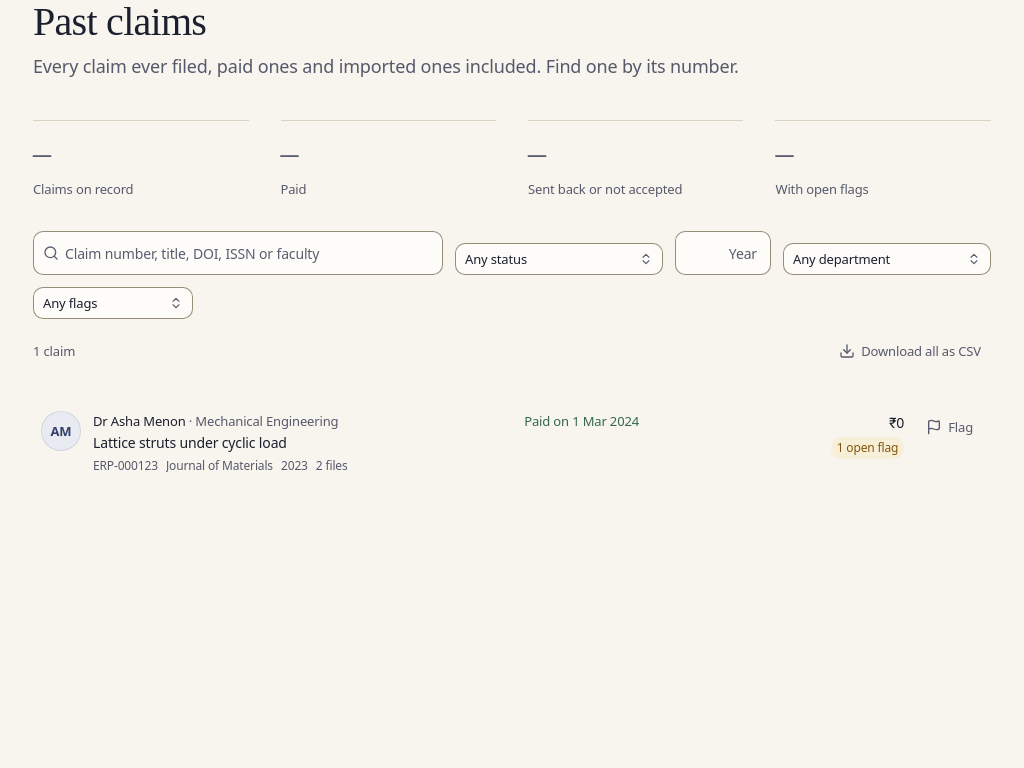
Test: past claims › opens a flag with a reason from the row
Step 1. Click the button with aria-label "Raise a flag on Lattice struts" → (950, 427), box [916,411,983,443]
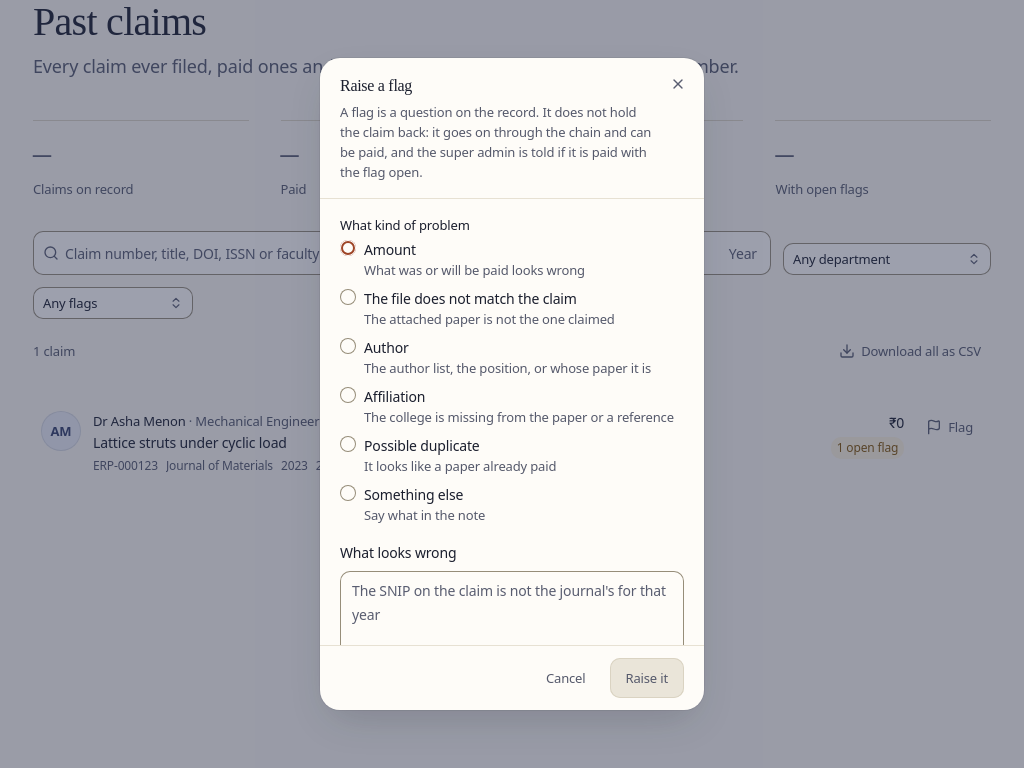
Expected: the dialog is shown, [320,58,704,710]
